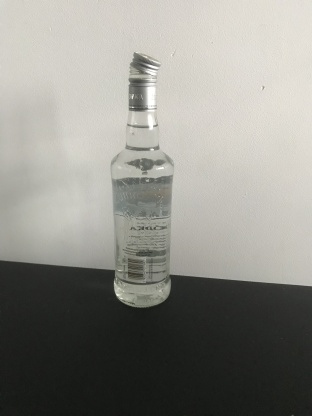nakretka: (126, 49, 162, 112)
